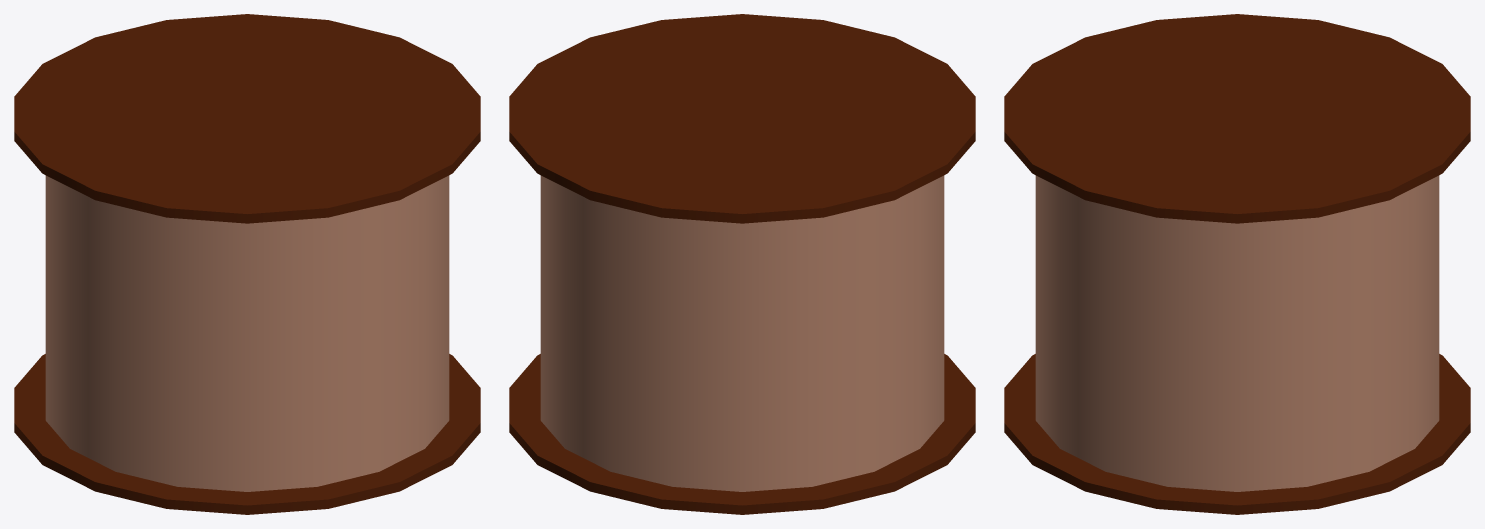
File: CUERDAS.fbx
The picture shows the model from 3 angles, left to right: view 1: azimuth 30°, elevation 25°; view 2: azimuth 150°, elevation 25°; view 3: azimuth 270°, elevation 25°; orthographic projection.
Parts seen in each view (by area): view 1: Cuerda; view 2: Cuerda; view 3: Cuerda.
Boxes of the visible parts, left/top/right/bottom form: Cuerda: left=14, top=14, right=480, bottom=514; Cuerda: left=509, top=14, right=975, bottom=514; Cuerda: left=1004, top=14, right=1470, bottom=514.
Bounding box in the file's own units: 94.61 × 66.3 × 93.17.
